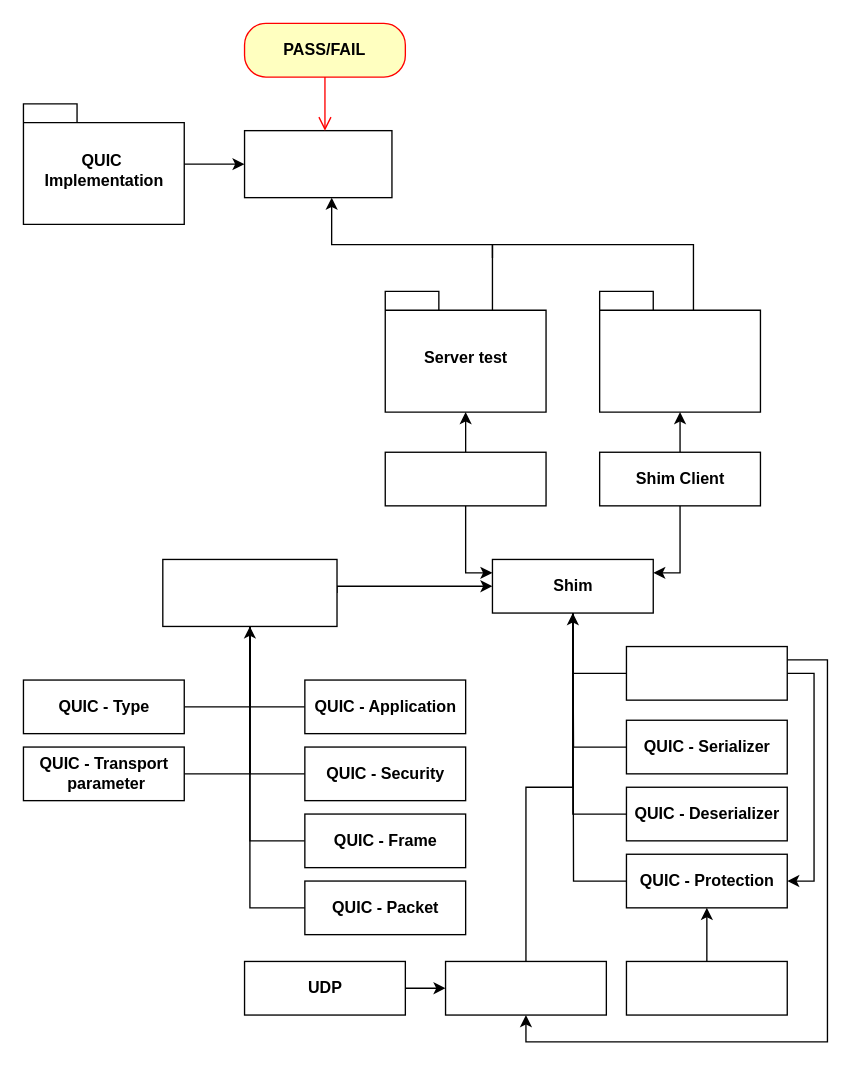
Image size: 862x1076. Some labels were removed from this diagram. The box of each missing label's shape, as (x1, y1, x2, y2) in pixels:
Client test: (598, 290, 760, 412)
Ivy Test (test.py): (243, 129, 392, 198)
QUIC - Locale: (444, 960, 606, 1015)
Shim Server: (384, 451, 546, 506)
TLS - Interface: (625, 645, 787, 700)
TLS - SerDeser: (625, 960, 787, 1015)
«interface» QUIC - Connection: (161, 558, 337, 626)
